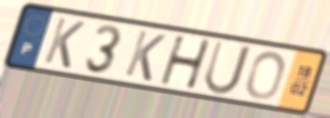3: (83, 24, 125, 76)
H: (158, 34, 214, 91)
K: (41, 15, 88, 71), (122, 28, 169, 84)
O: (244, 49, 288, 101)
U: (200, 39, 253, 97)
